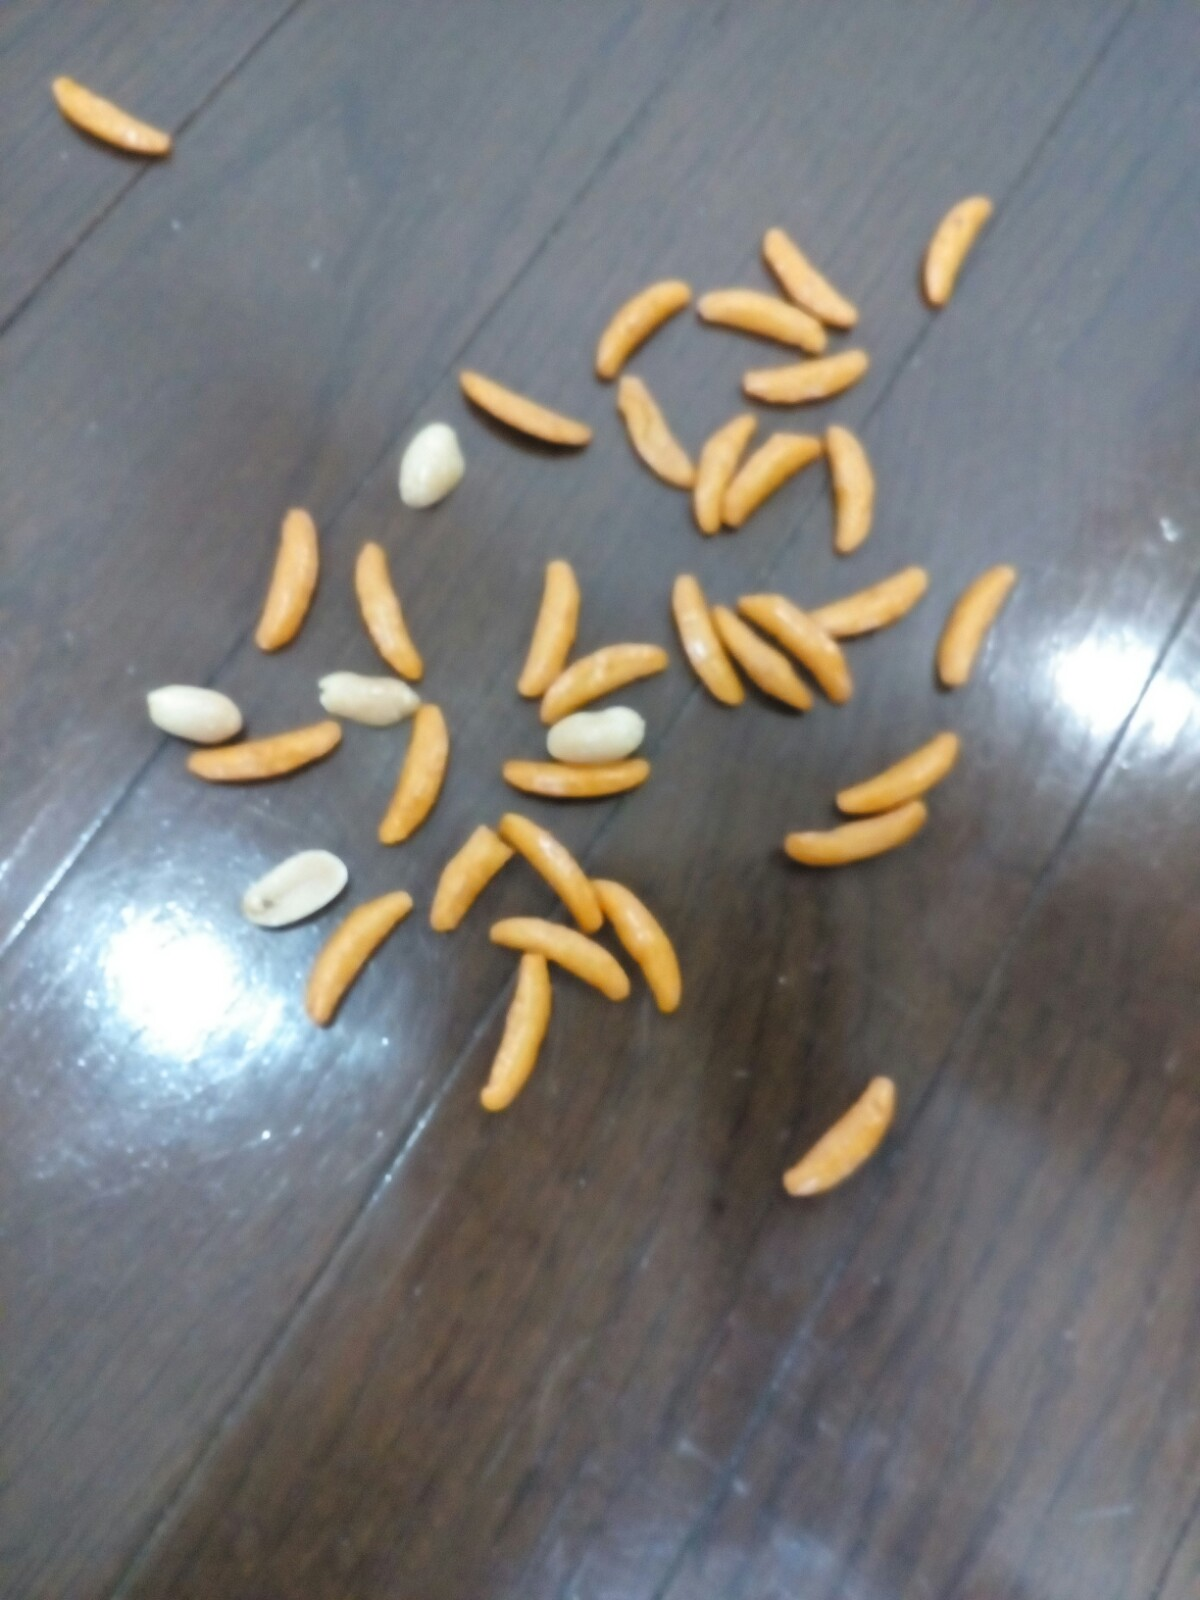peanut: (231, 833, 366, 939), (379, 404, 471, 523), (534, 697, 667, 765), (139, 666, 248, 745), (311, 665, 426, 736)
